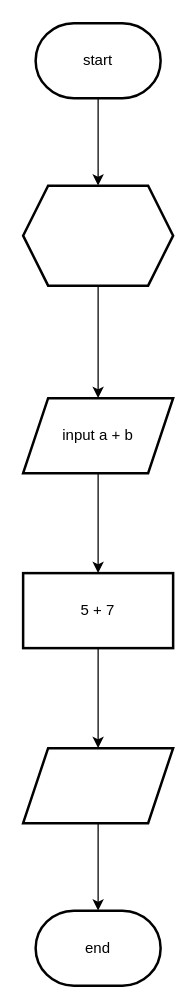
Image size: 195x1008. Some labels were removed from this diagram. Each missing label, with the centre of its shape:
output hasil = 12: [97,785]
variabel a = 5 dan b = 7, rumus, hasil: [97,235]
